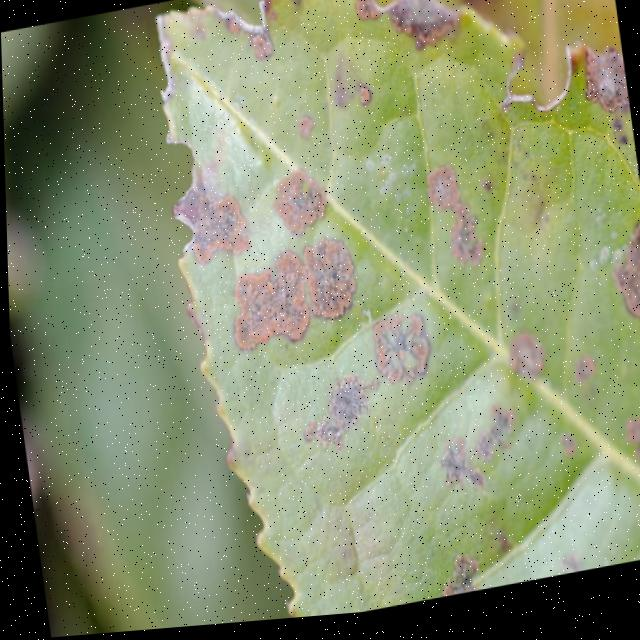Tea red rust: (147, 0, 640, 584)
